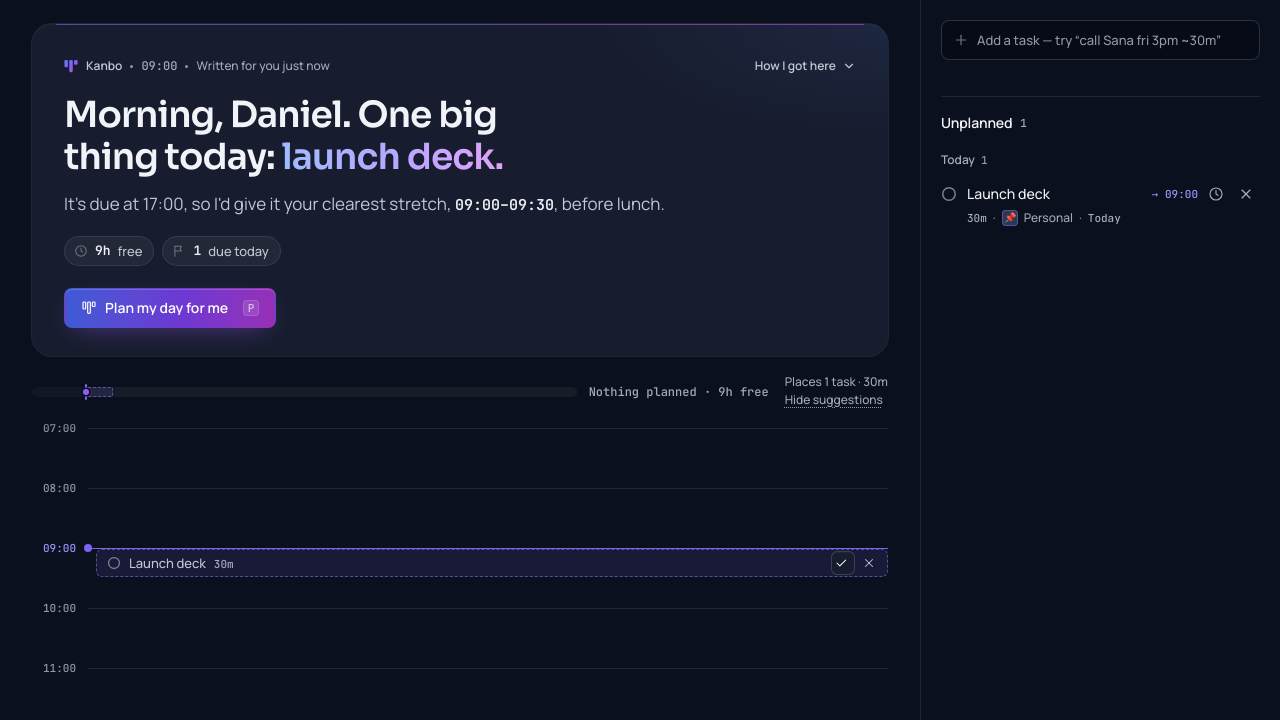
Scenario: TodayView: the brief › How I got here opens the facts the brief was built from
Click the button "How I got here": (805, 66) [745, 52, 866, 80]
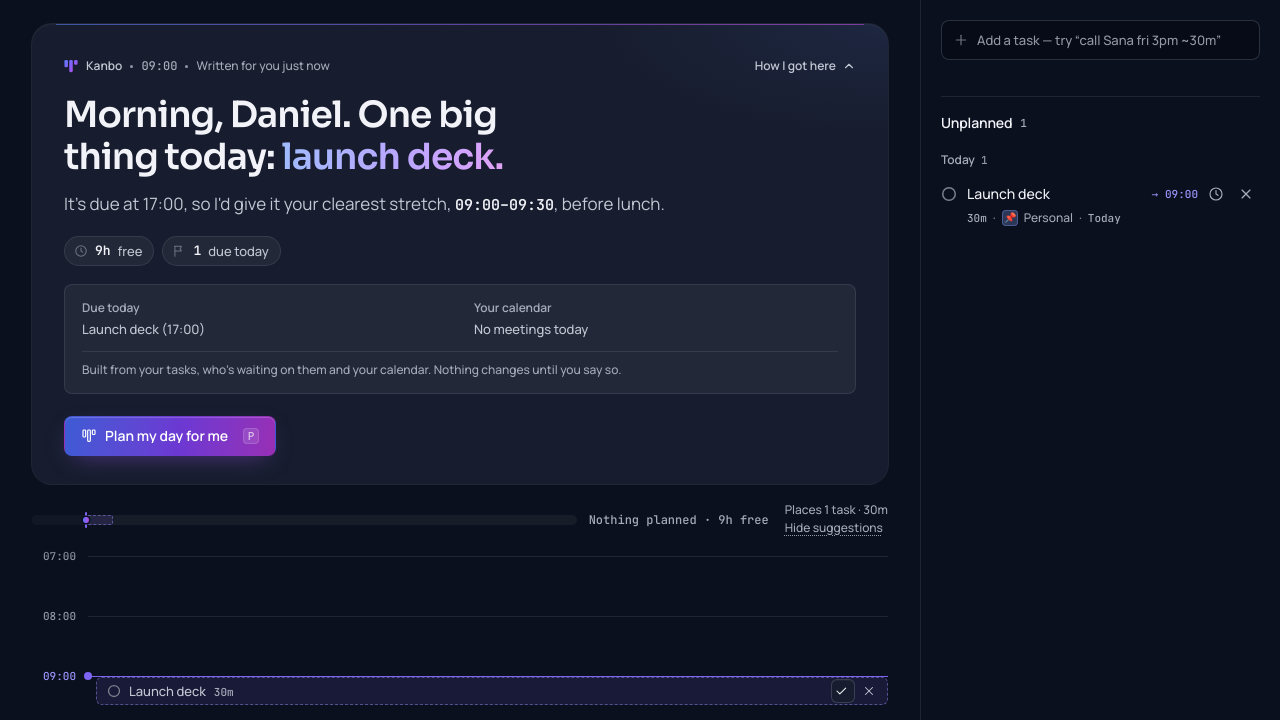
Result: the button "How I got here" is expanded at [745, 52, 866, 80]
Result: the text "Due today" is shown at [82, 299, 140, 316]
Result: the text "Launch deck (17:00)" is shown at [82, 320, 205, 338]
